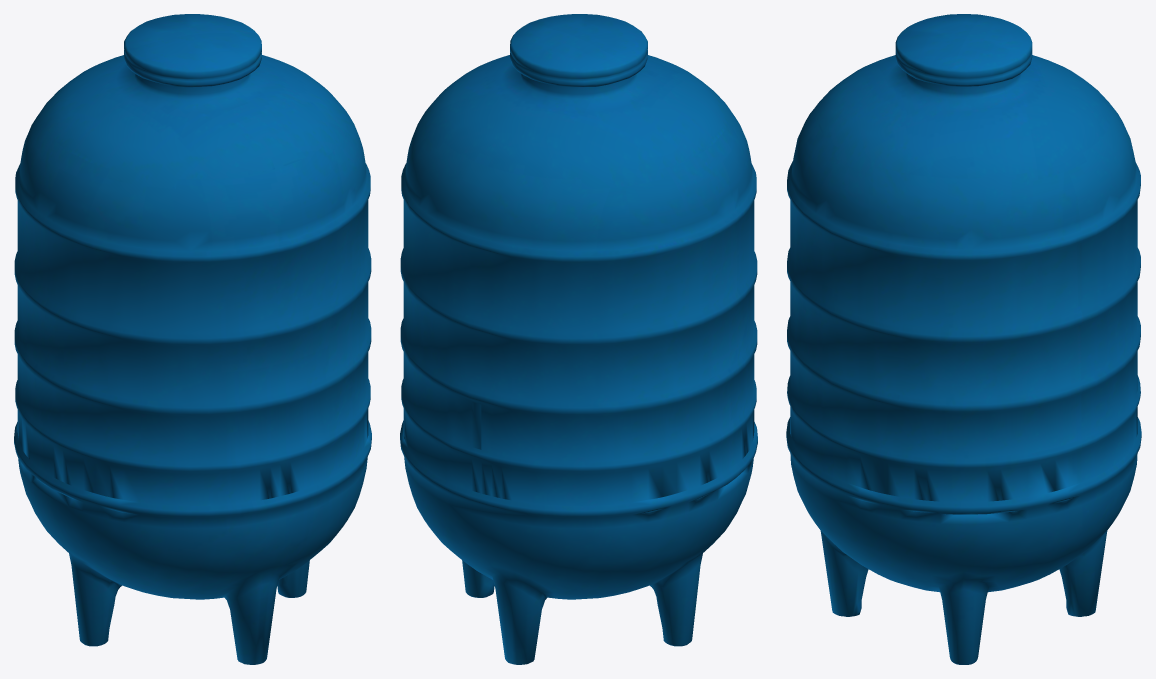
Rendered from Industrial__water_tank_c27c18f7_v3.cluster.glb.
3 renders of one model, left to right at view 1: azimuth 30°, elevation 25°; view 2: azimuth 150°, elevation 25°; view 3: azimuth 270°, elevation 25°, orthographic.
Visible parts, largest first — view 1: material; view 2: material; view 3: material.
Boxes of the visible parts, x1=… form: material: x1=14, y1=14, x2=371, y2=664; material: x1=400, y1=14, x2=757, y2=664; material: x1=786, y1=14, x2=1141, y2=664.
Size of the model in its own units: 1.06 by 1.9 by 1.06.
Materials: 1 (1 with a texture image).
